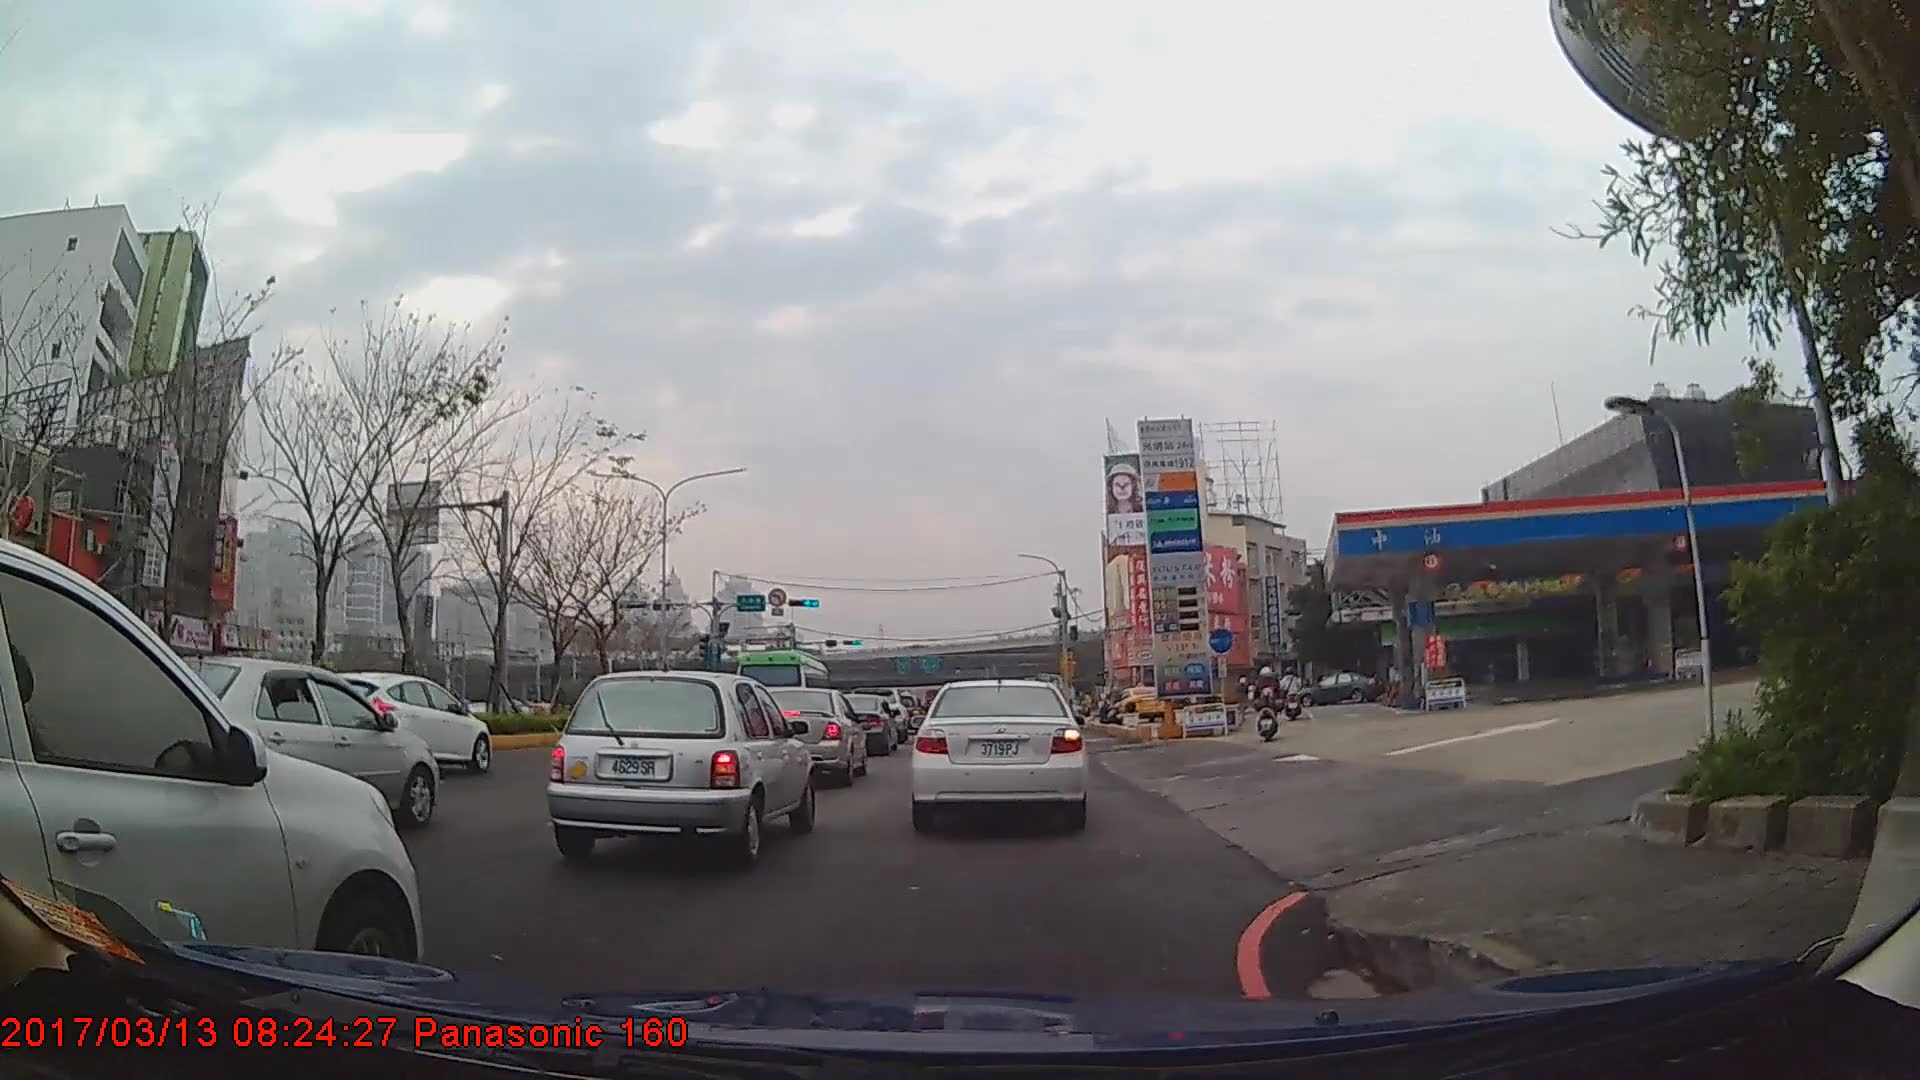rider: (1254, 669, 1283, 743), (1282, 669, 1305, 721)
vehicle: (0, 539, 426, 1019), (117, 657, 436, 830), (547, 669, 813, 868), (911, 674, 1088, 833), (298, 669, 491, 774), (742, 685, 867, 788), (731, 647, 830, 730), (821, 692, 899, 758), (1294, 670, 1381, 705), (1114, 686, 1168, 723)
